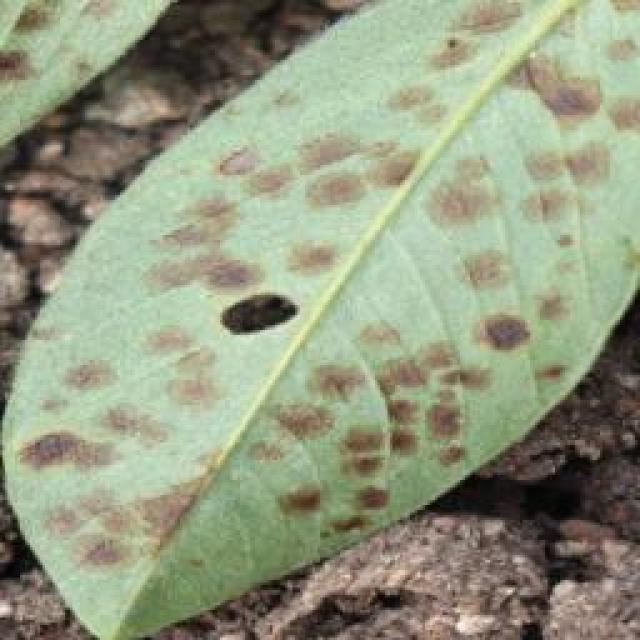Whitefly: (0, 0, 632, 640), (0, 0, 162, 127)
